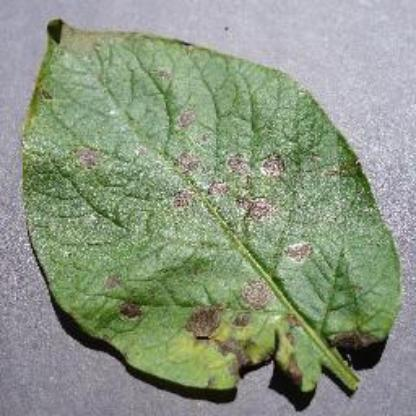Early-Blight: (24, 10, 400, 404)
